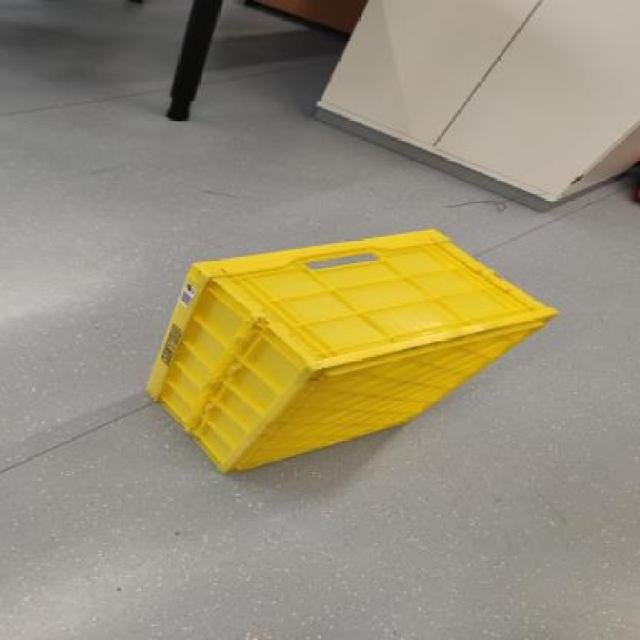box: (112, 195, 578, 507)
